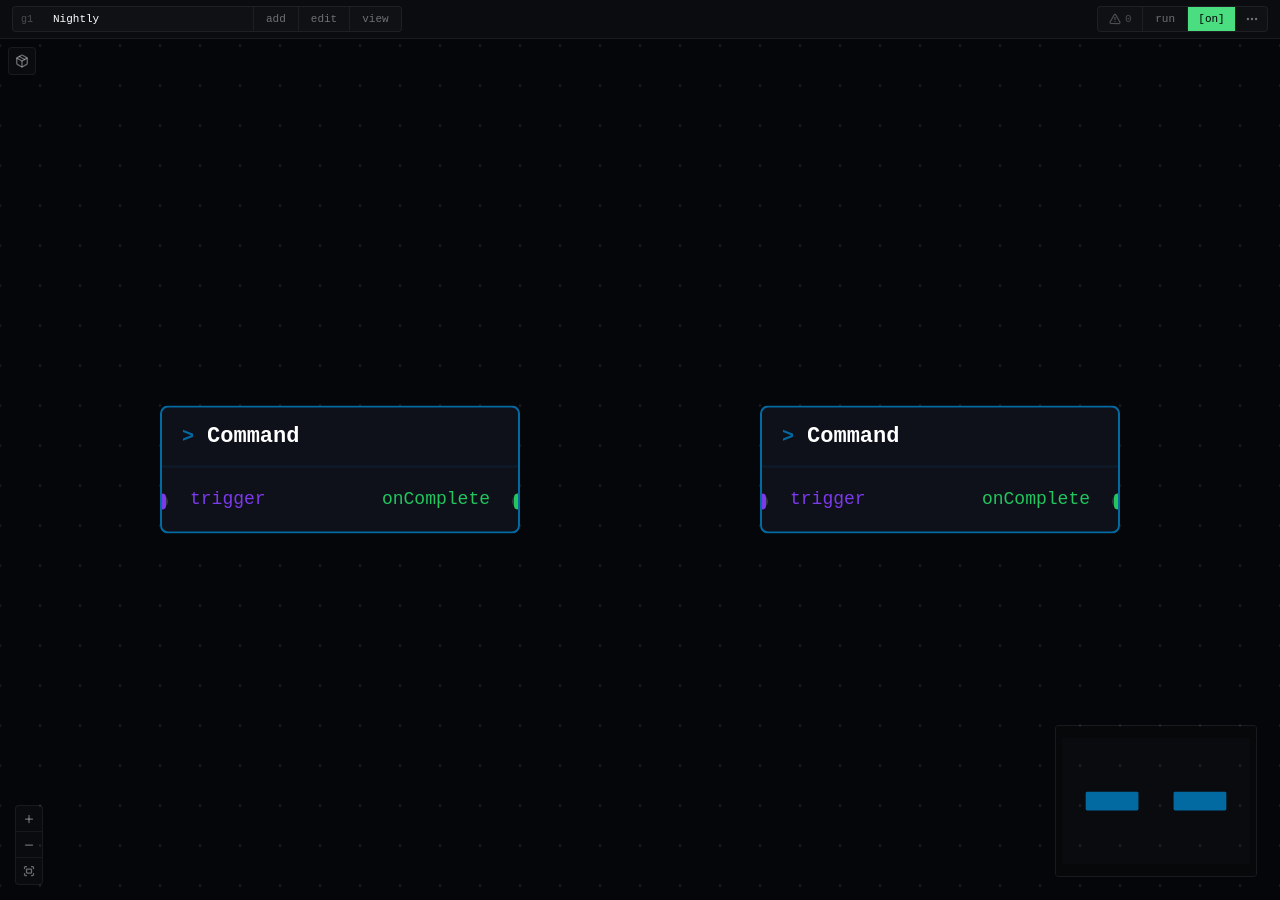
Test case: right-clicking a block opens the edit menu › opens quick-add, not the edit menu, on the empty canvas
Check: the number of elements with class "react-flow__node" is 2, box [160,406,520,534]; [760,406,1120,534]
Right-click the element with class "react-flow__pane".
right_click(340, 470)  # box [160,406,1120,534]
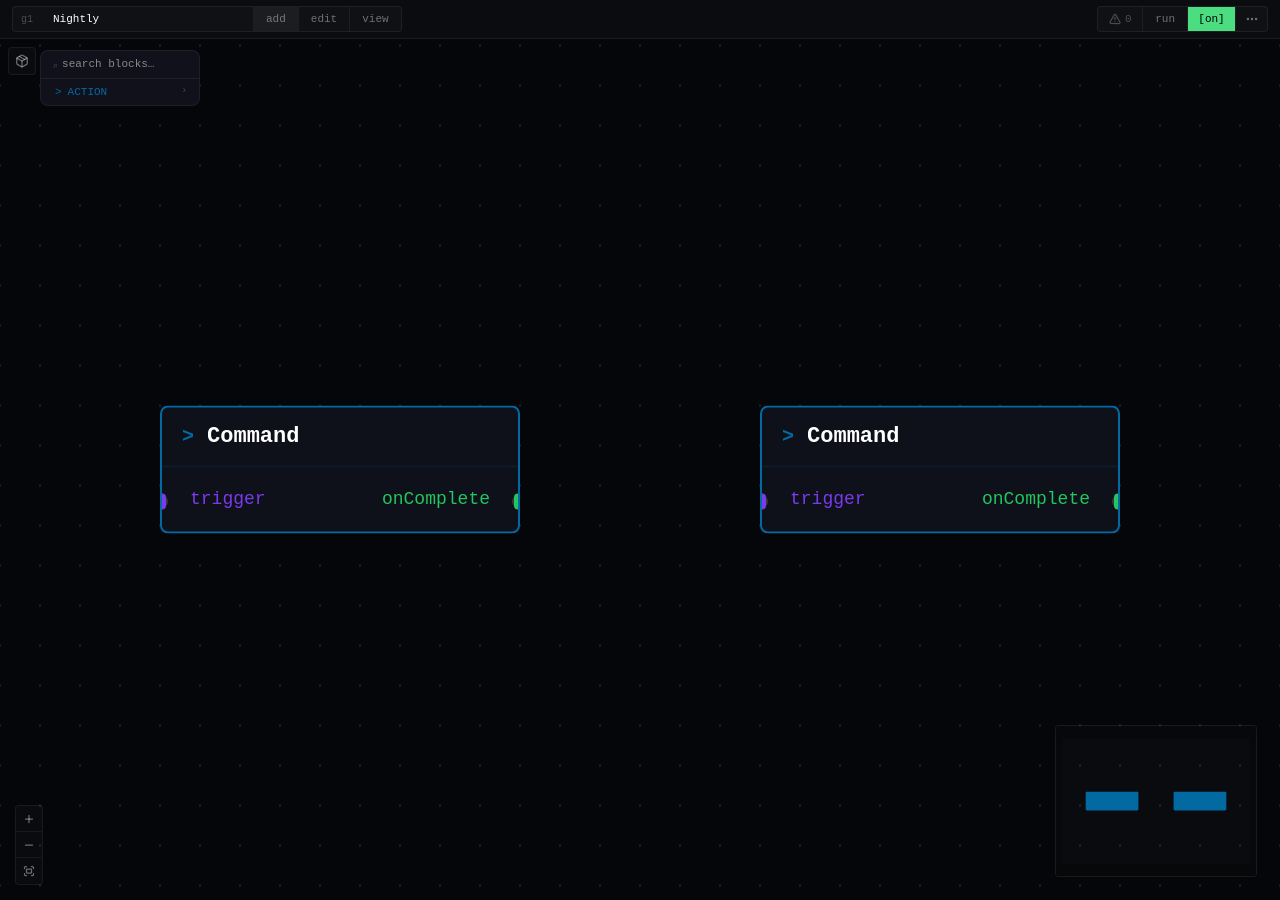
Check: the field with placeholder "search blocks…" is shown, box [62,56,187,72]
